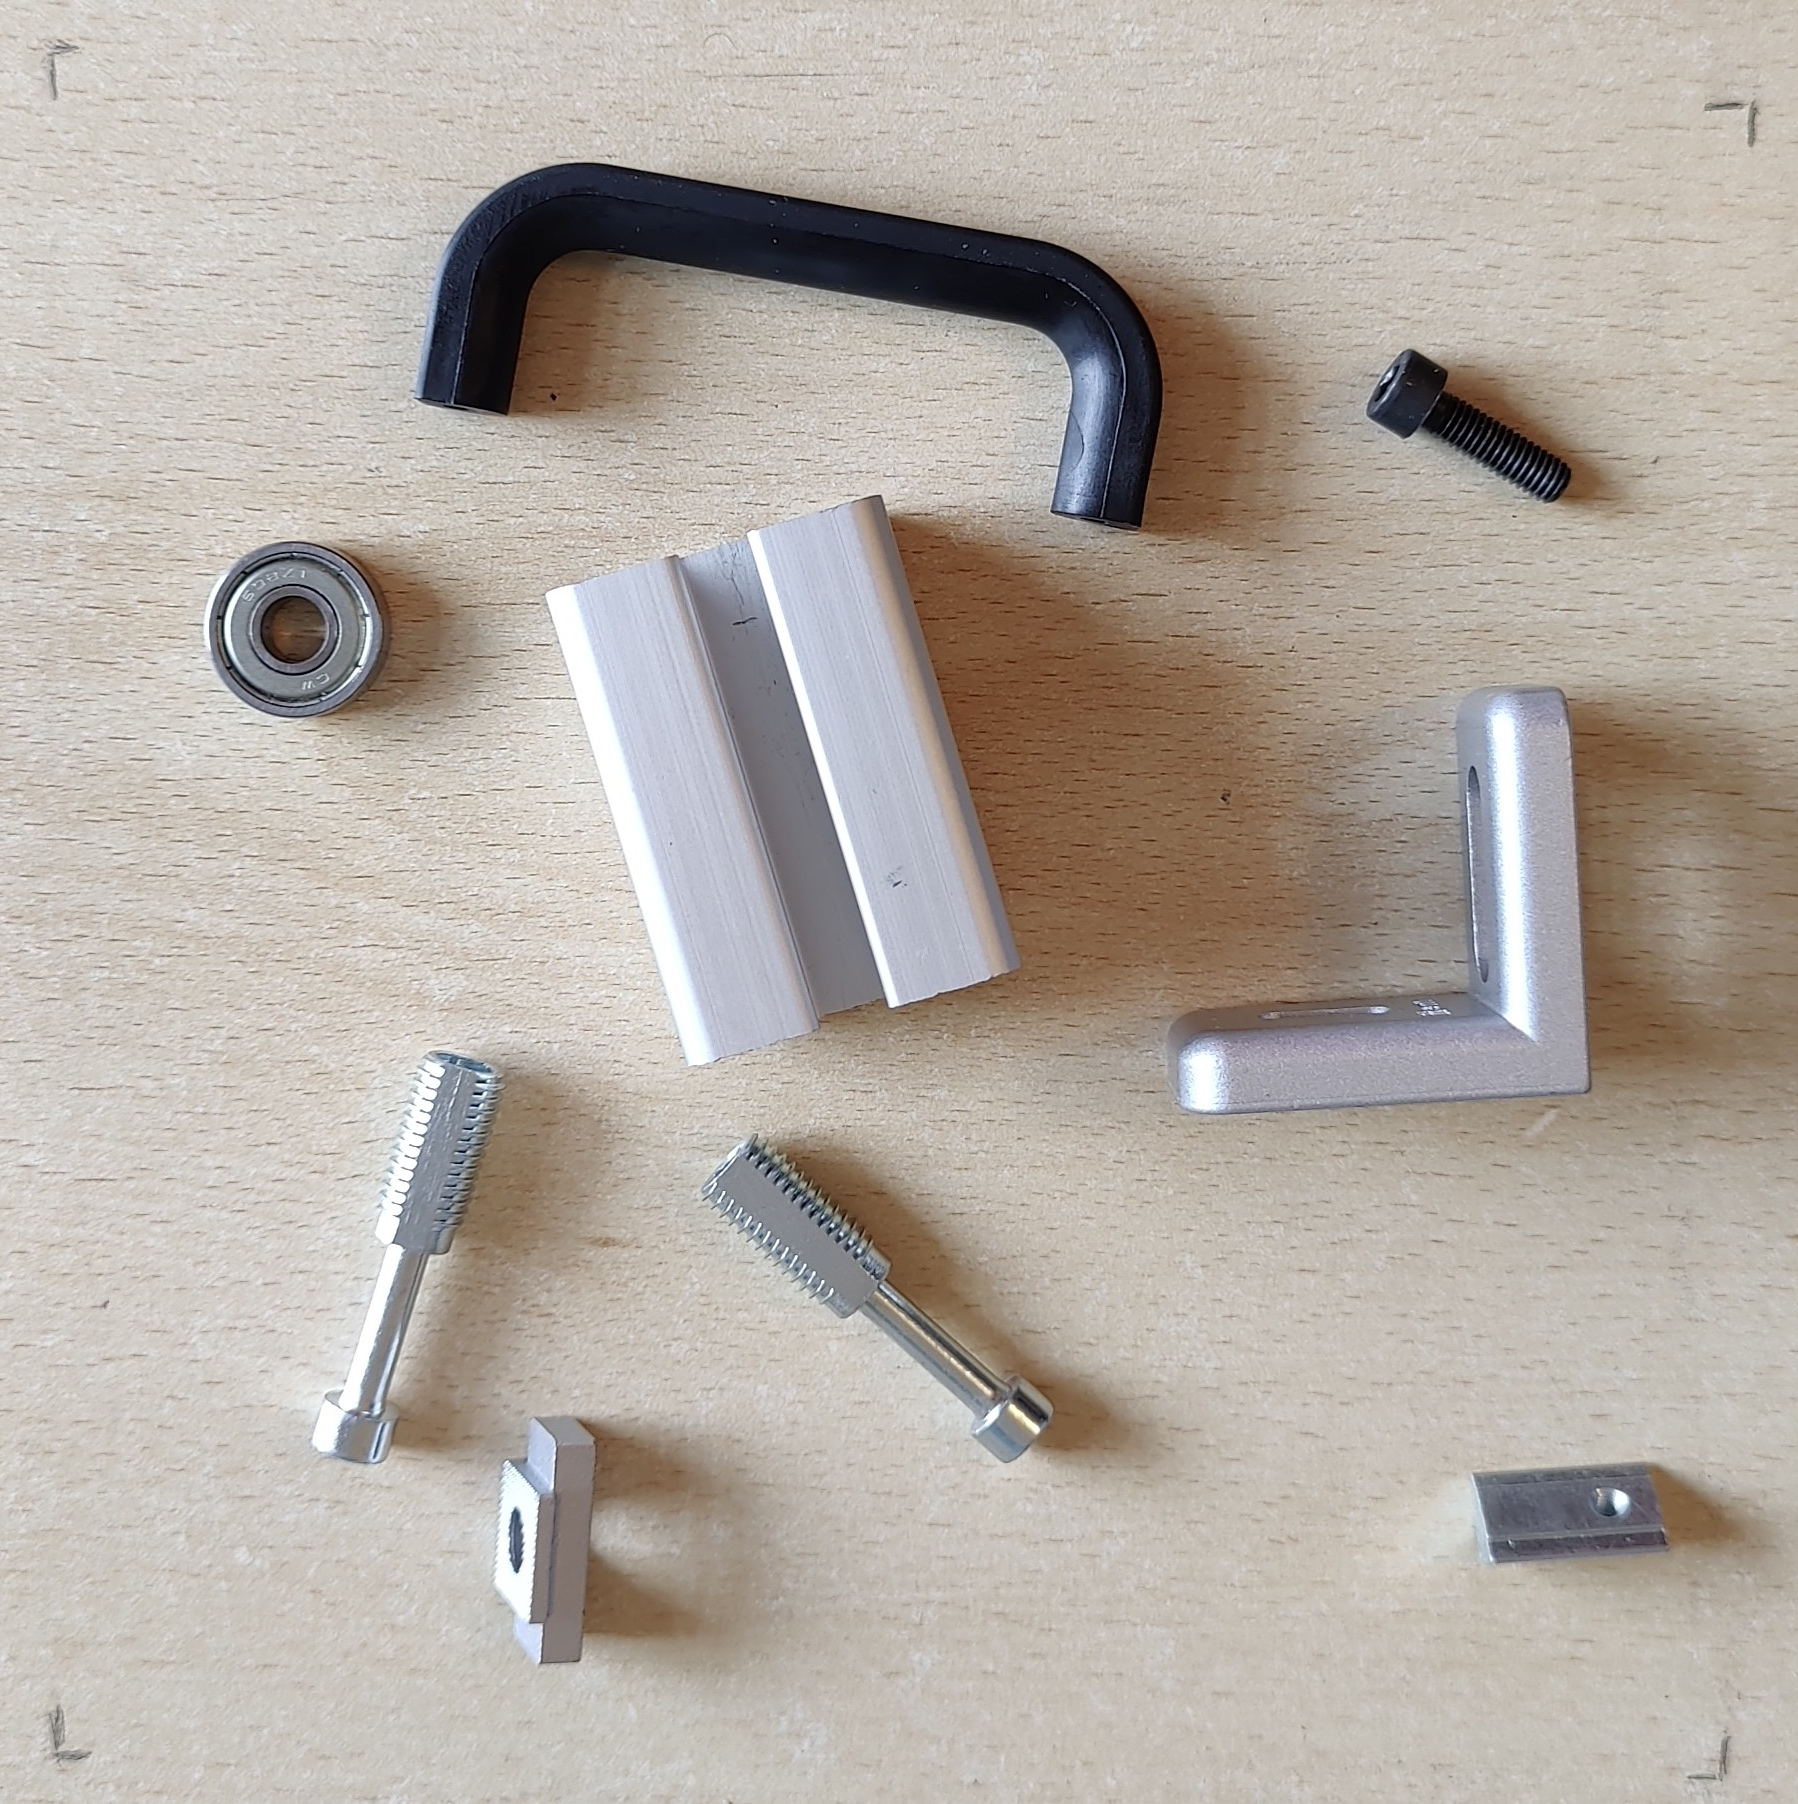Aluminium Extension: (547, 494, 1027, 1072)
Ball Bearing: (203, 540, 395, 721)
Multiwinkel: (1162, 685, 1595, 1119)
Pull Handle: (413, 160, 1166, 533)
Shoulder Socket Head Cap Screw: (695, 1131, 1059, 1468), (306, 1047, 509, 1467)
Socket Head Cap Screw: (1362, 346, 1576, 505)
T Nut Square: (491, 1414, 603, 1667)
T Spring Nut: (1465, 1458, 1671, 1577)
